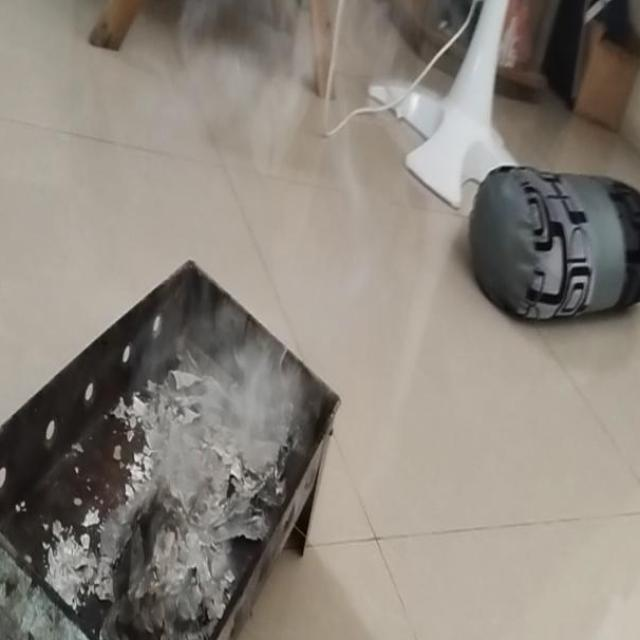fire: (212, 291, 298, 446)
